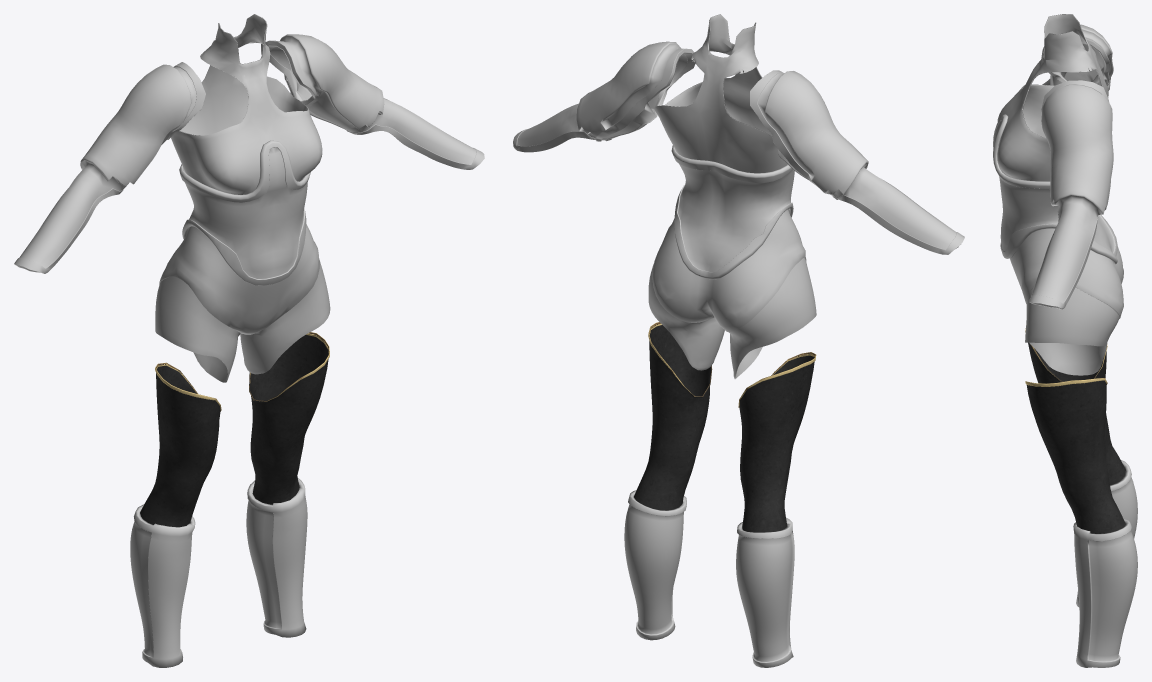
3 renders of one model, left to right at view 1: azimuth 30°, elevation 25°; view 2: azimuth 150°, elevation 25°; view 3: azimuth 270°, elevation 25°, orthographic. The views are drawn at different scales.
Parts seen in each view (by area): view 1: Armor, Arm Armor, sock, leg armor, cuirass; view 2: Armor, Arm Armor, sock, leg armor, cuirass; view 3: Armor, Arm Armor, sock, leg armor, cuirass.
Part boxes in pixels (x1,y1,x2,y2): Armor: (155,14,330,382); Arm Armor: (14,34,484,273); sock: (140,332,329,527); leg armor: (130,478,307,667); cuirass: (179,140,310,285); Armor: (648,14,816,378); Arm Armor: (513,41,964,254); sock: (634,322,816,532); leg armor: (624,490,794,667); cuirass: (671,145,794,279); Armor: (997,14,1123,375); Arm Armor: (1029,24,1113,309); sock: (1025,325,1125,533); leg armor: (1073,460,1137,667); cuirass: (993,114,1117,264).
Size of the model in its own units: 1.77 by 2.32 by 0.4978.
